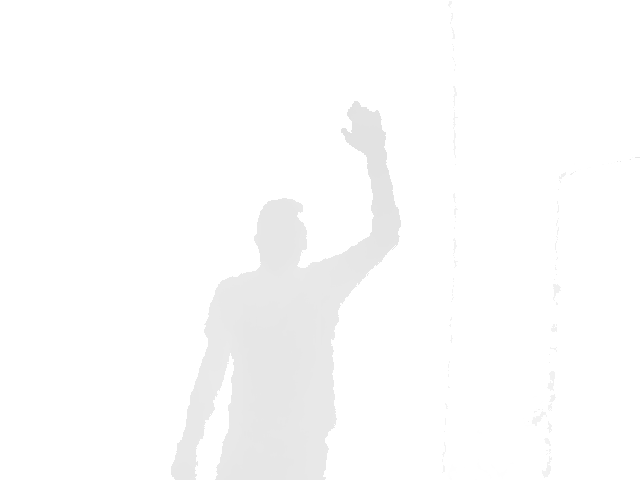hand: (339, 98, 389, 154)
head: (253, 198, 308, 268)
person: (169, 99, 403, 480)
